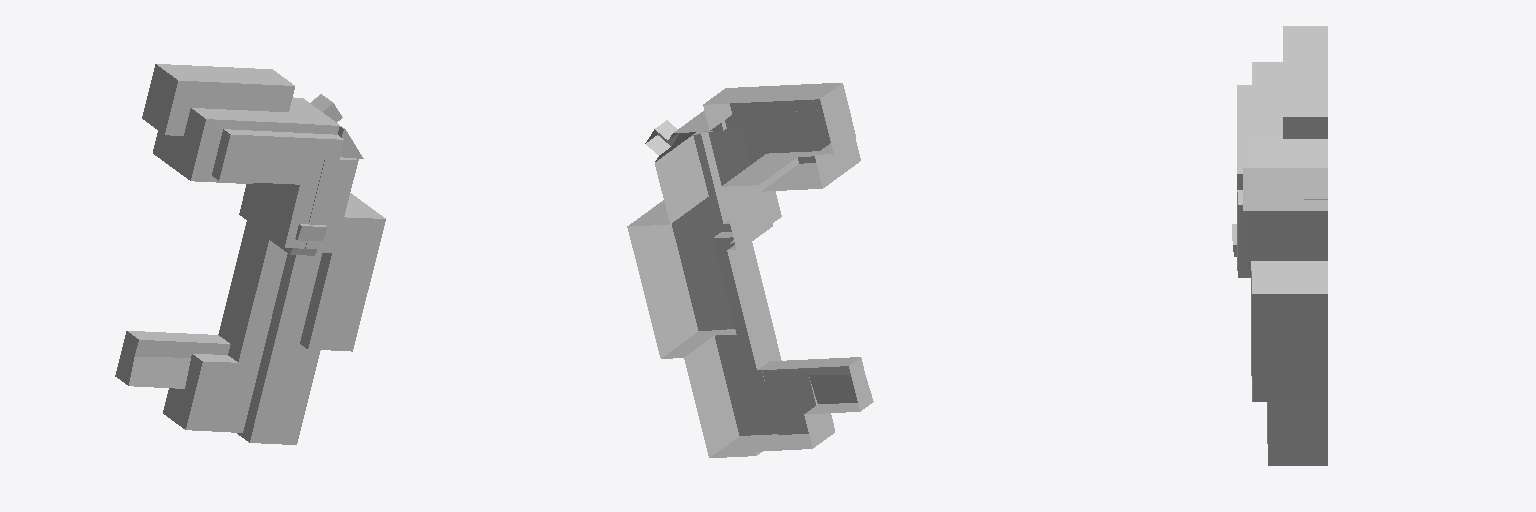
File: talo_Build0000007.obj
3 renders of one model, left to right at view 1: azimuth 30°, elevation 25°; view 2: azimuth 150°, elevation 25°; view 3: azimuth 270°, elevation 25°, orthographic.
Size of the model in its own units: 56.42 by 89.31 by 20.32.